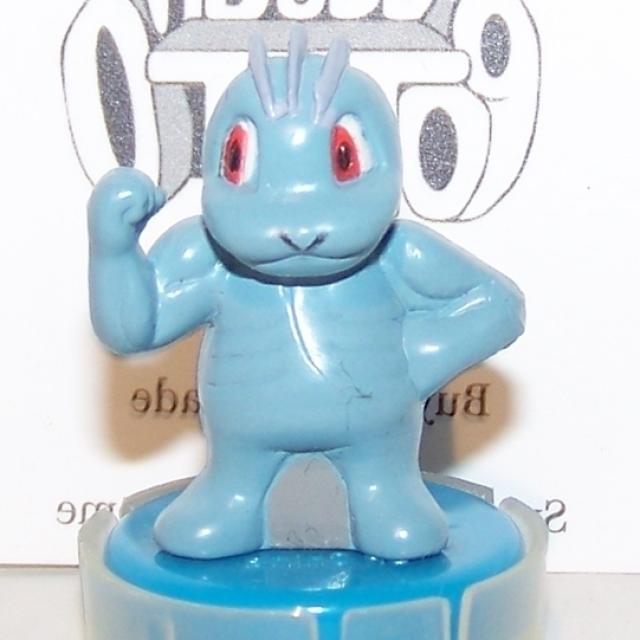Machop: (38, 12, 536, 552)
